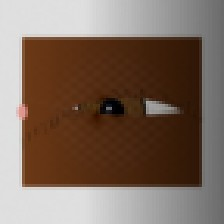pinguecula_lesion: (42, 87, 83, 119)
